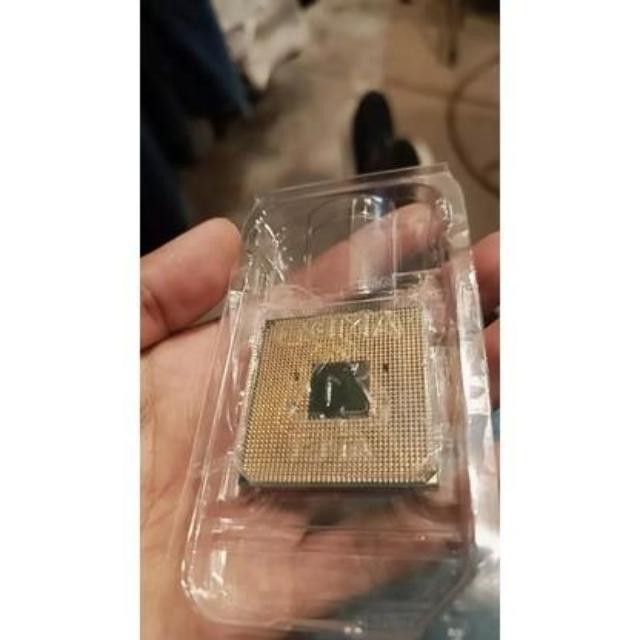CPU: (233, 302, 444, 488)
